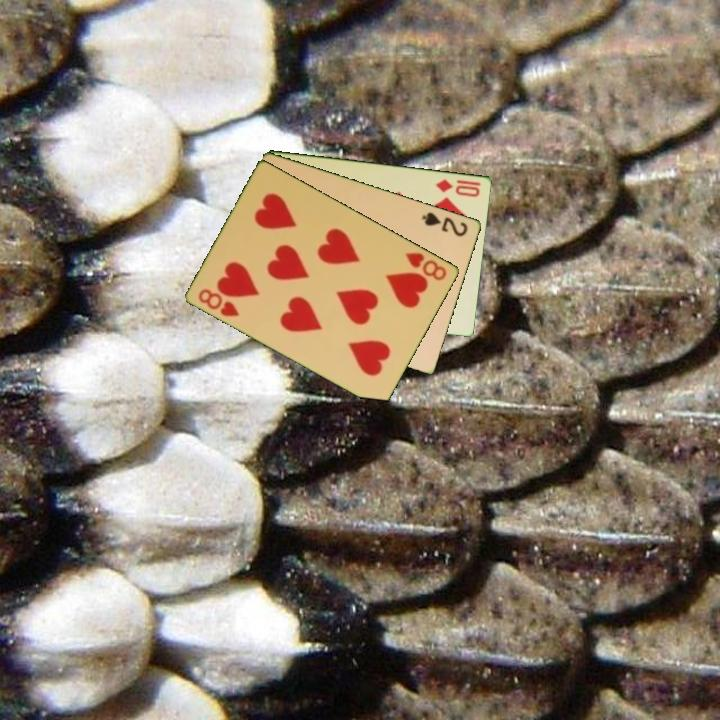10d: (433, 175, 483, 200)
2s: (419, 208, 471, 239)
8h: (195, 285, 242, 320), (402, 249, 450, 283)
